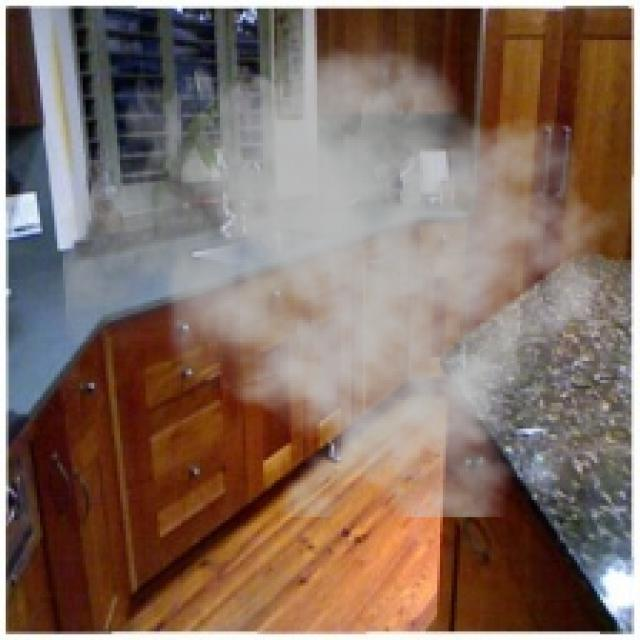smoke: (60, 0, 623, 517)
